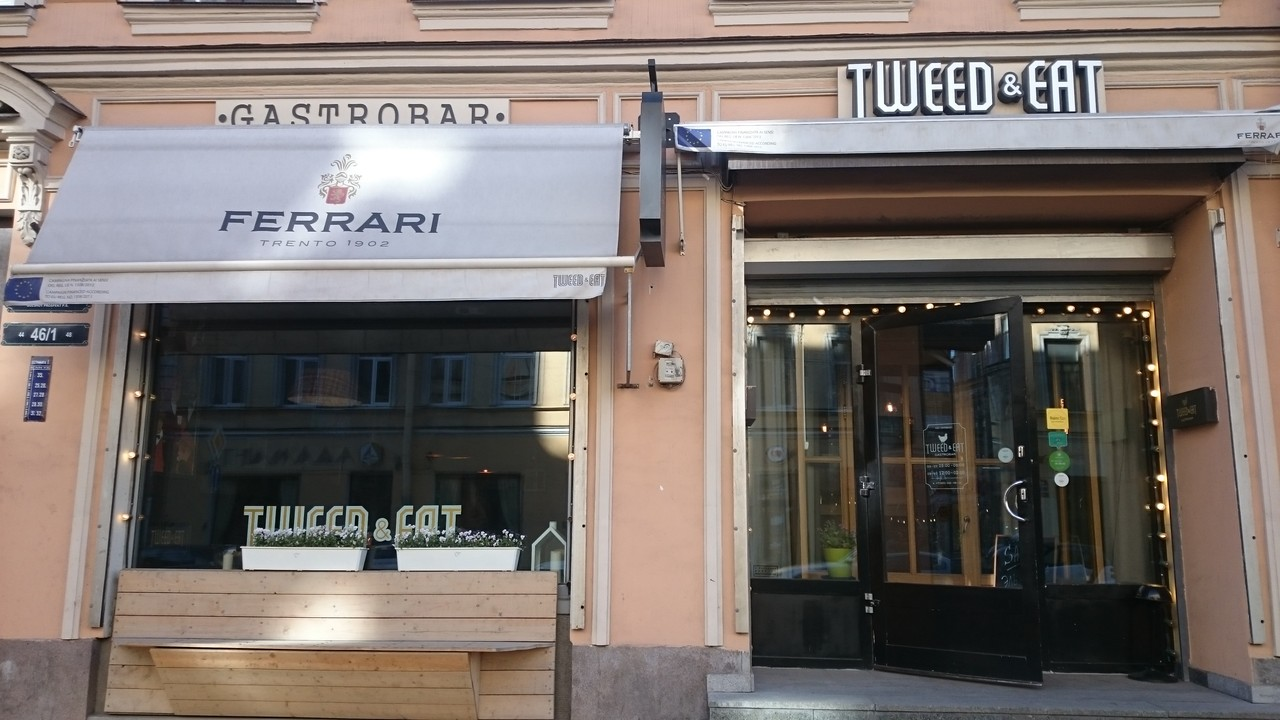cantilever: (638, 58, 685, 268)
door: (863, 314, 1049, 689)
signboard: (836, 60, 1107, 113), (216, 98, 509, 127)
window: (145, 303, 567, 568), (1039, 323, 1159, 582), (743, 319, 861, 582)
